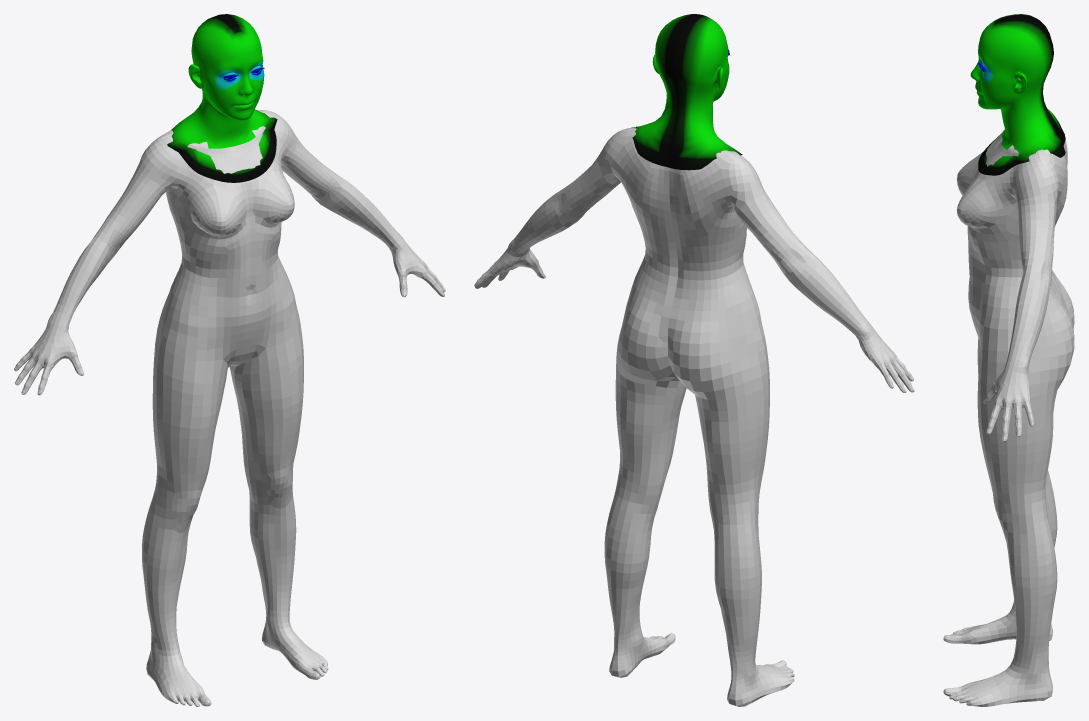
File: Female_Basemesh_Clean_topo.fbx
3 views of the same model, side by side, from view 1: azimuth 30°, elevation 25°; view 2: azimuth 150°, elevation 25°; view 3: azimuth 270°, elevation 25° (orthographic). The views are drawn at different scales.
Parts seen in each view (by area): view 1: Female_BodyBase, Female_Head_00001; view 2: Female_BodyBase, Female_Head_00001; view 3: Female_BodyBase, Female_Head_00001.
Part boxes in pixels (x1,y1,x2,y2): Female_BodyBase: (14,110,445,706); Female_Head_00001: (167,14,277,182); Female_BodyBase: (474,127,914,706); Female_Head_00001: (631,14,742,170); Female_BodyBase: (943,109,1074,706); Female_Head_00001: (970,14,1065,175).
Bounding box in the file's own units: 124 × 182 × 33.18.
